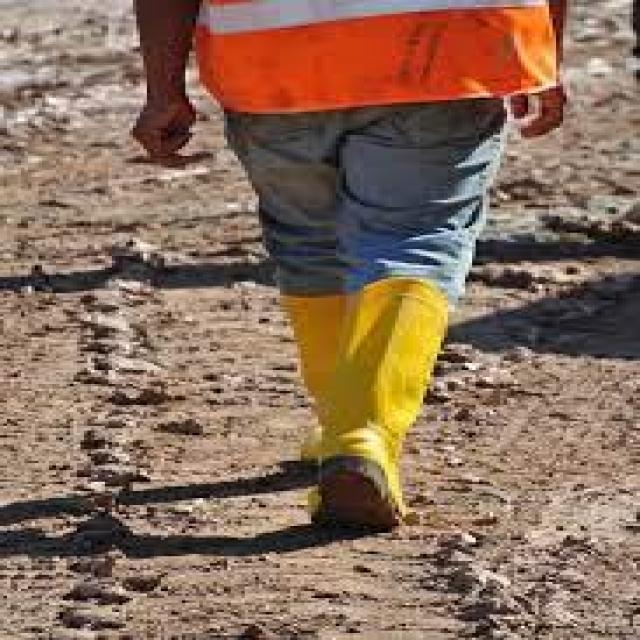shoes: (290, 280, 459, 526)
